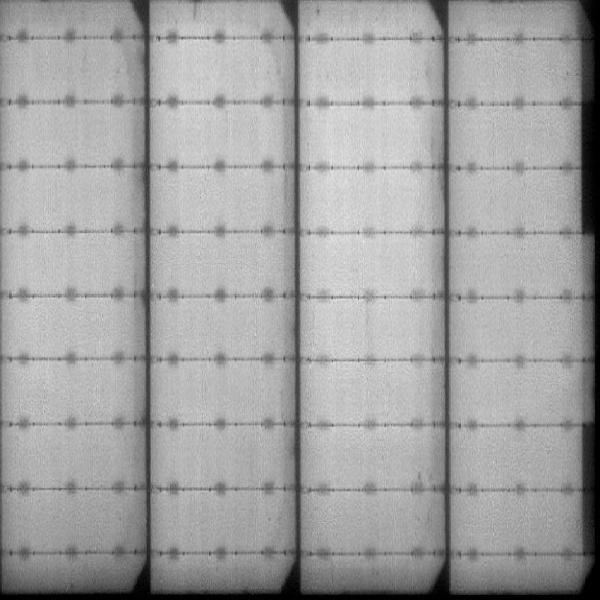black_border: (577, 27, 597, 245), (579, 415, 599, 561)
